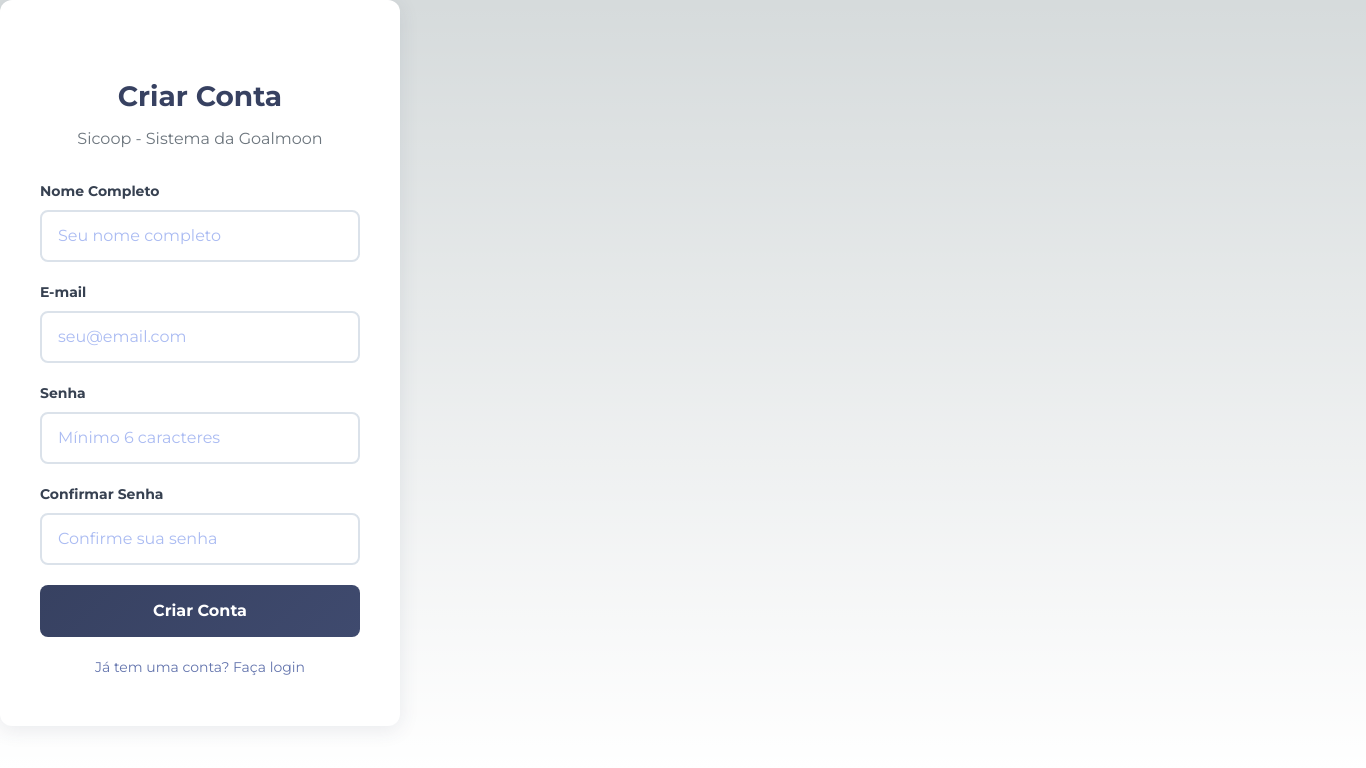
Scenario: RegisterPage › validação de senha › deve mostrar erro quando senha é muito curta
Type "João Silva" into the field labelled "Nome Completo" at (200, 236), box x1=40 y1=210 x2=360 y2=262
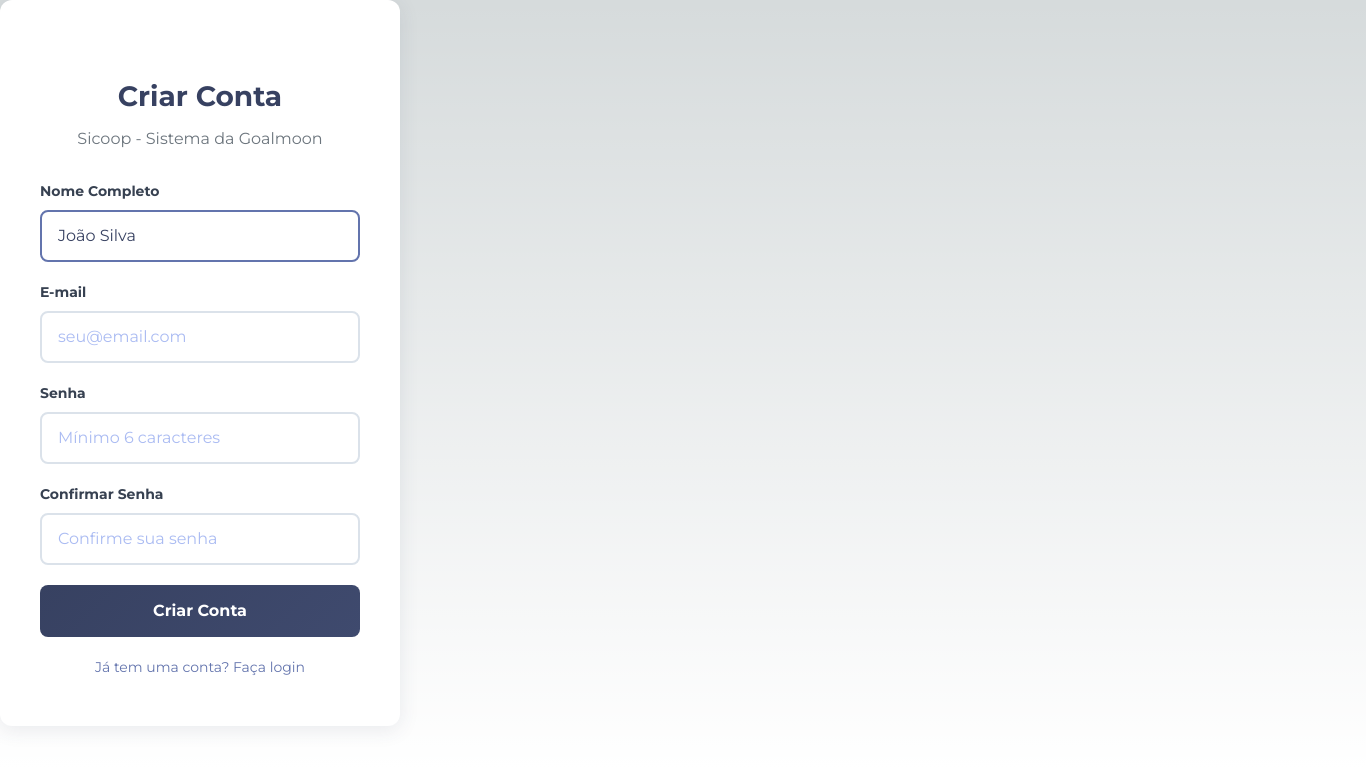
Type "joao@example.com" into the field labelled "E-mail" at (200, 337), box x1=40 y1=311 x2=360 y2=363
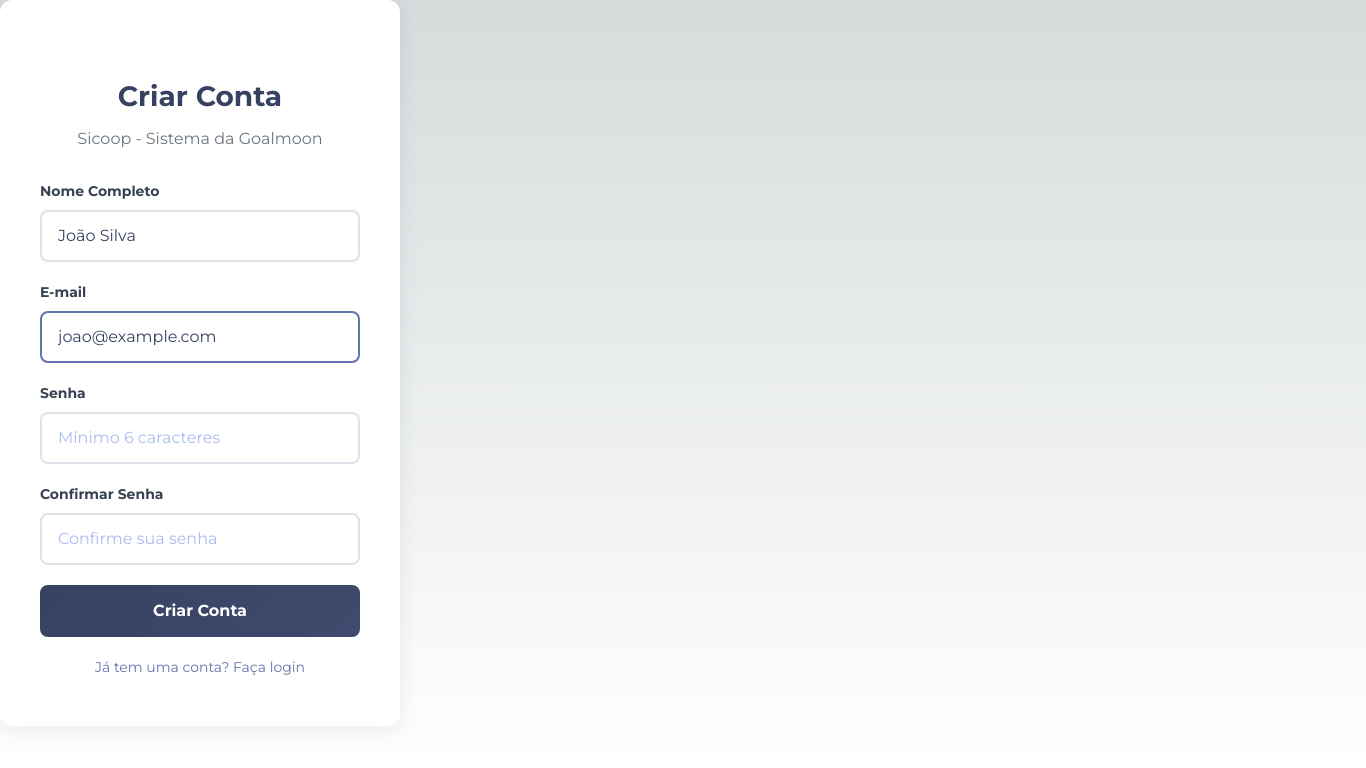
Type "123" into the password field labelled "Senha" at (200, 438), box x1=40 y1=412 x2=360 y2=464
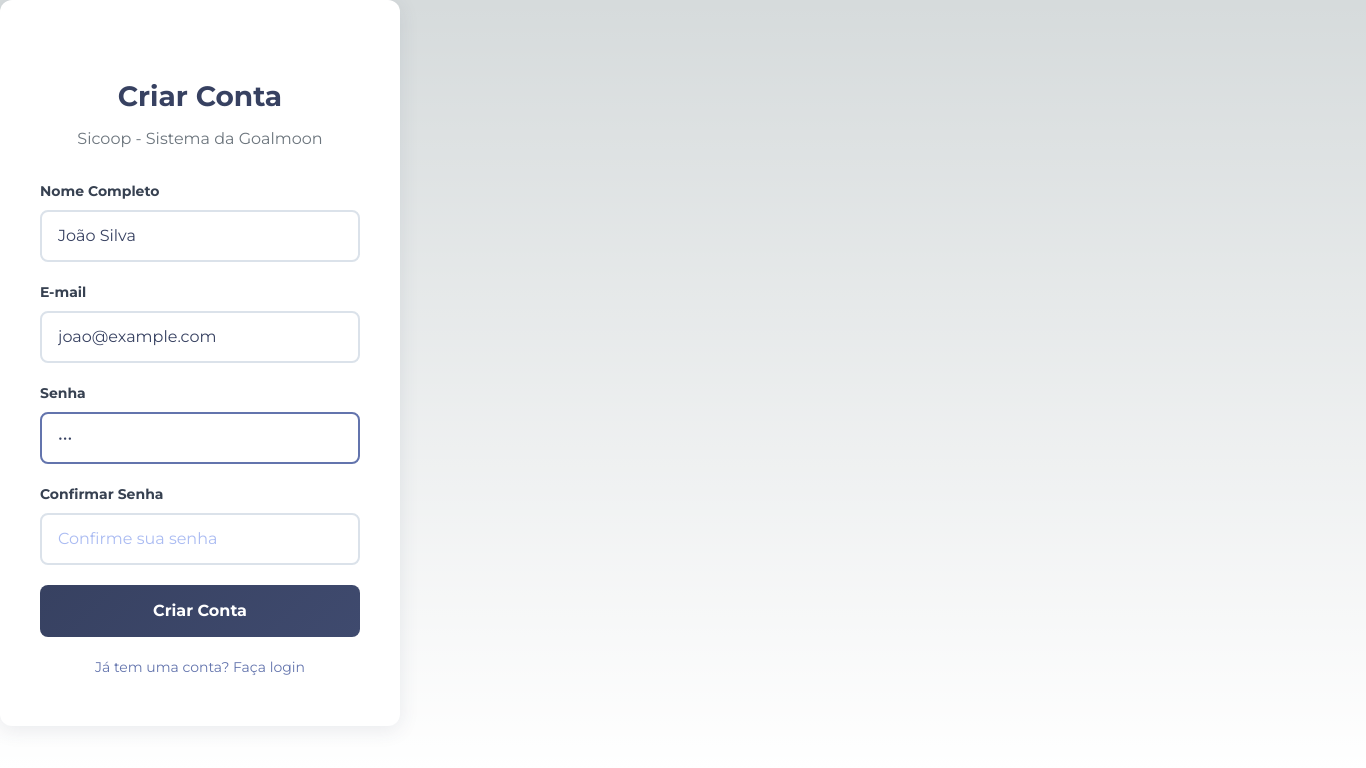
Type "123" into the password field labelled "Confirmar Senha" at (200, 539), box x1=40 y1=513 x2=360 y2=565
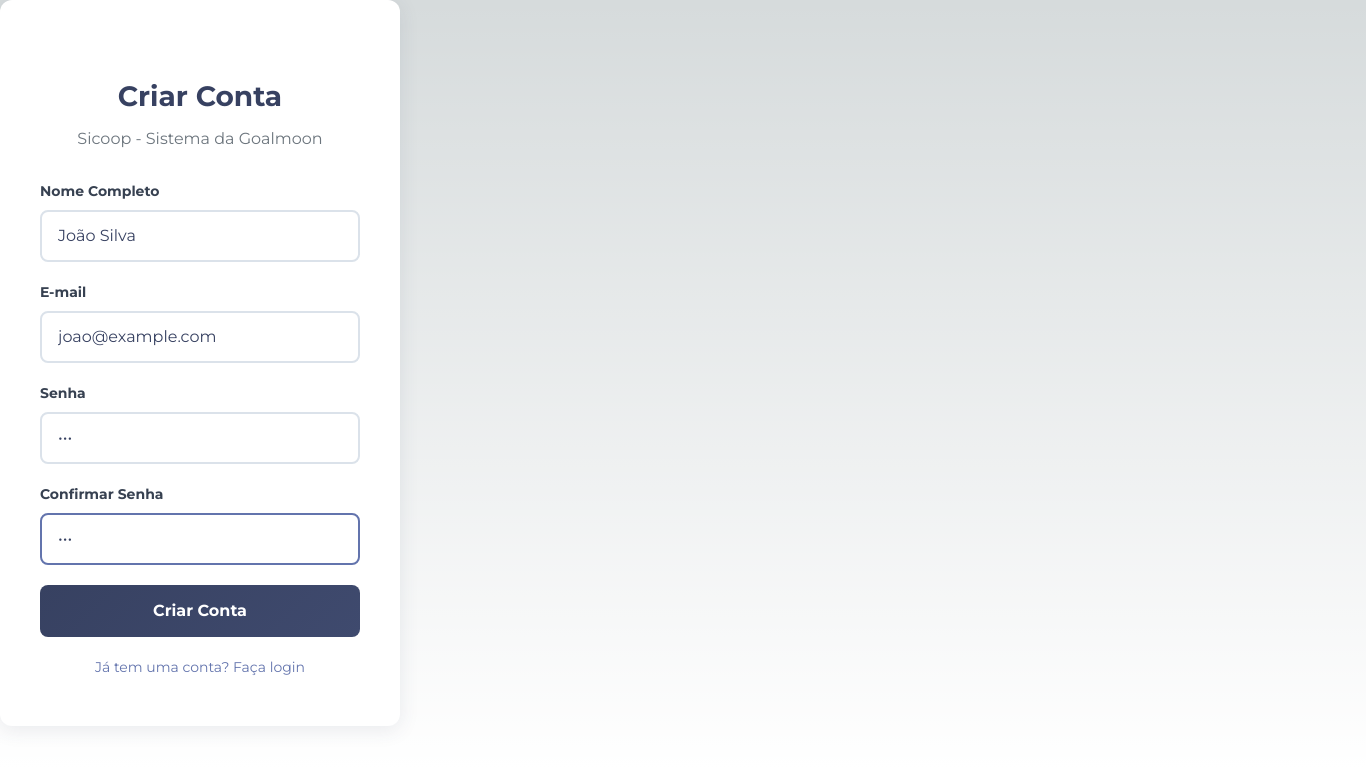
Click the button "Criar Conta" at (200, 611), box x1=40 y1=585 x2=360 y2=637
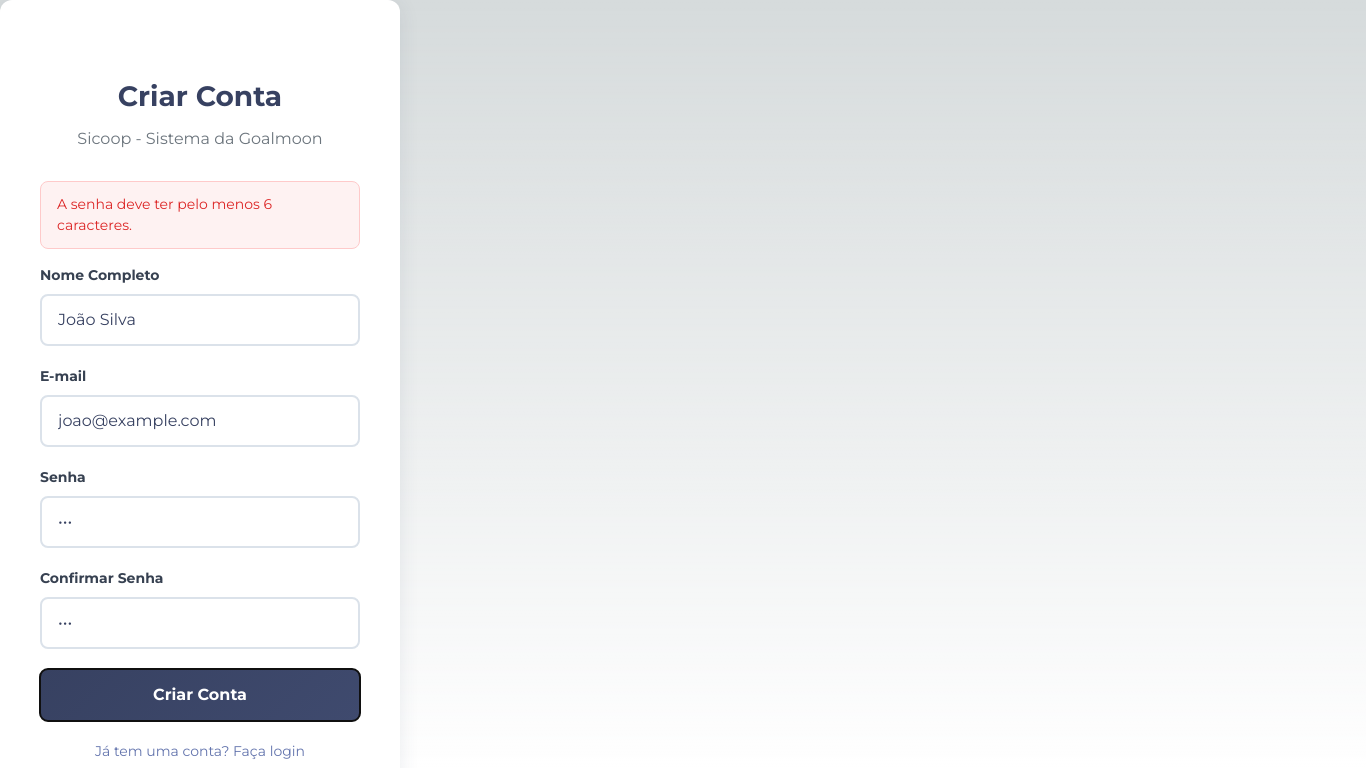
Expected: the text "A senha deve ter pelo menos 6 caracteres." is shown, x1=40 y1=181 x2=360 y2=249
